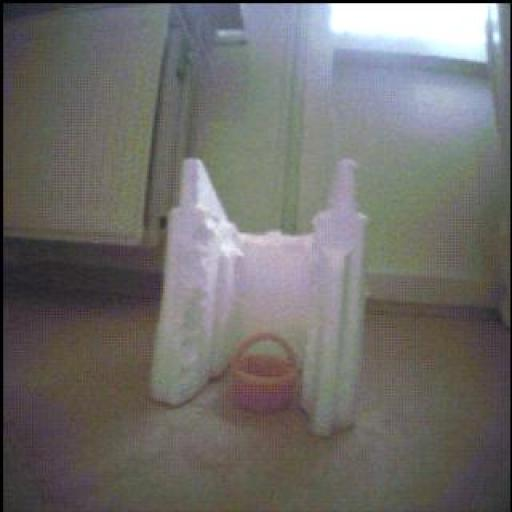Basket: (232, 334, 301, 412)
